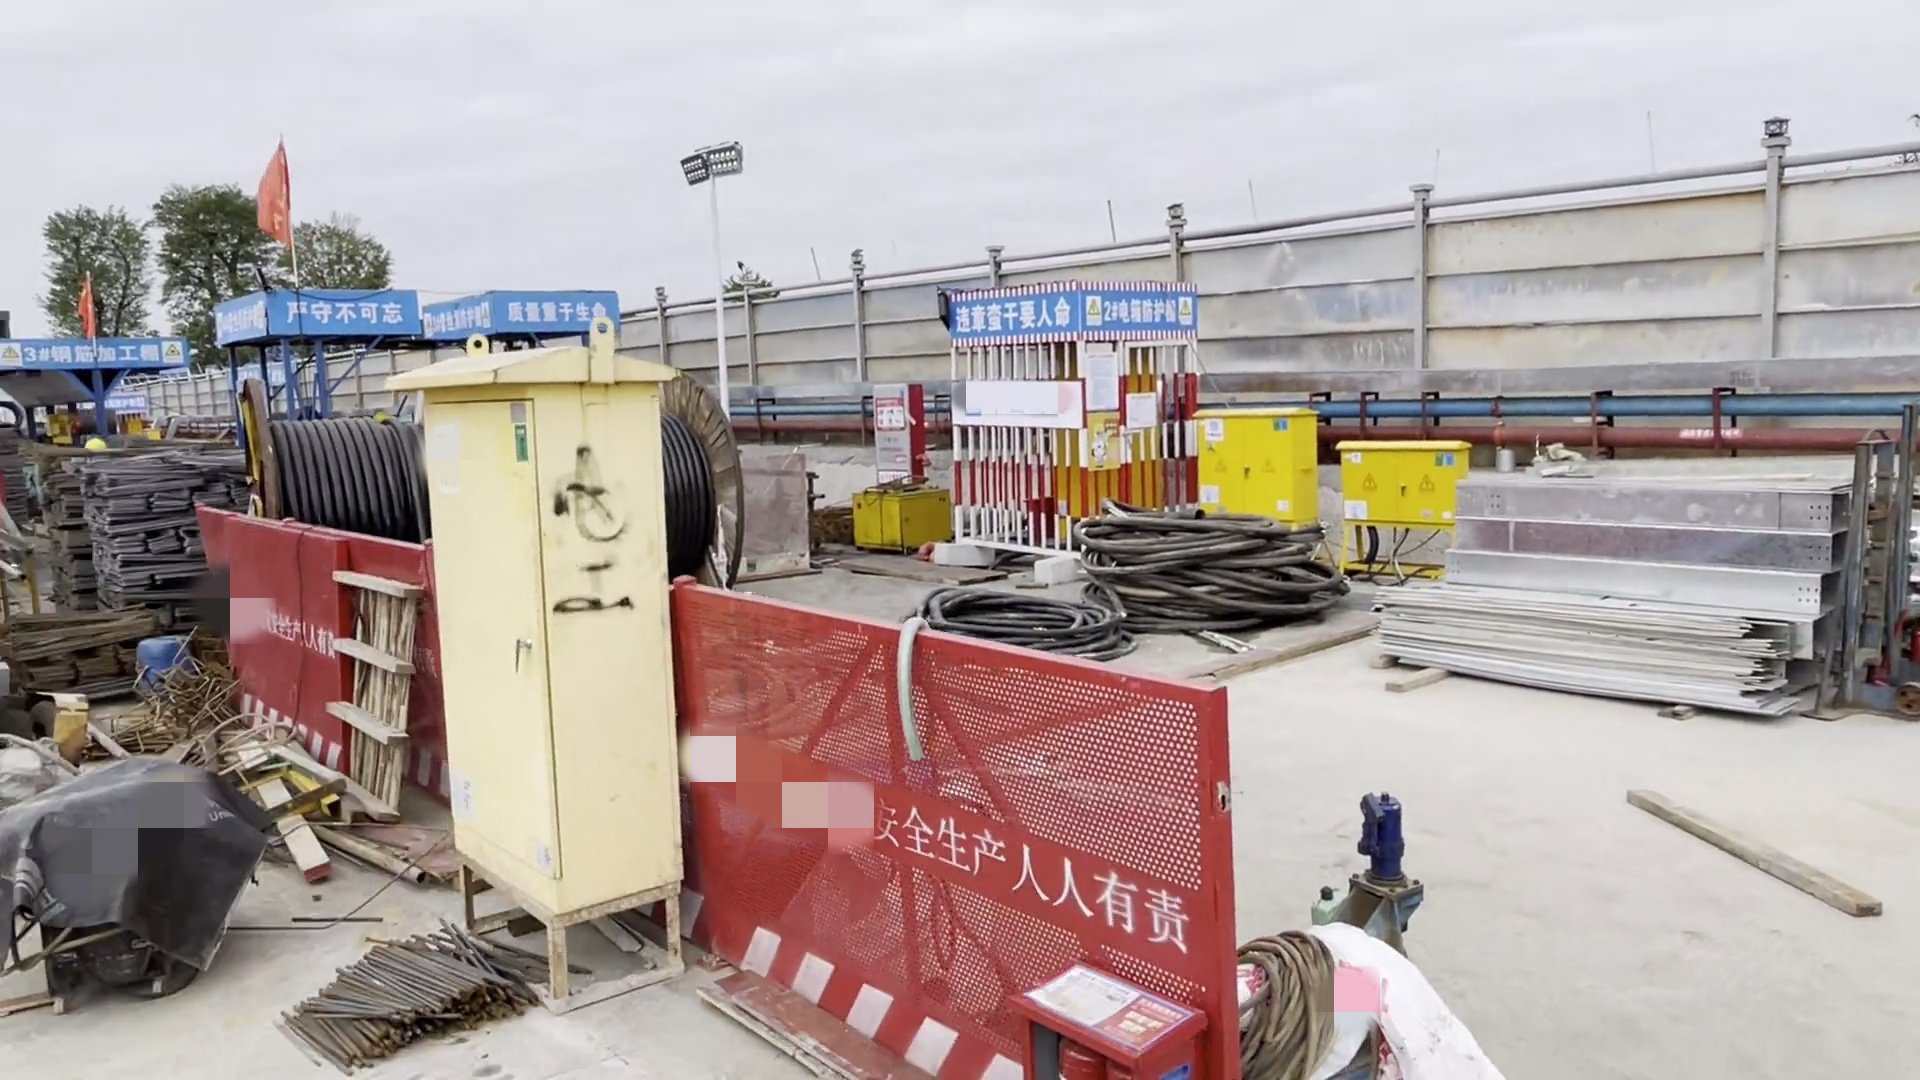ebox: (385, 345, 684, 922), (1335, 438, 1452, 575), (1192, 400, 1309, 535), (1062, 356, 1156, 514)
fence: (659, 579, 1241, 1080), (198, 502, 444, 782)
helmet: (79, 436, 105, 454)
rebar: (295, 936, 538, 1068)
slogan: (269, 287, 419, 332), (945, 285, 1072, 338), (419, 295, 620, 328), (1176, 293, 1197, 334), (161, 340, 187, 364), (1083, 297, 1102, 324), (4, 349, 21, 367), (135, 392, 145, 407)
